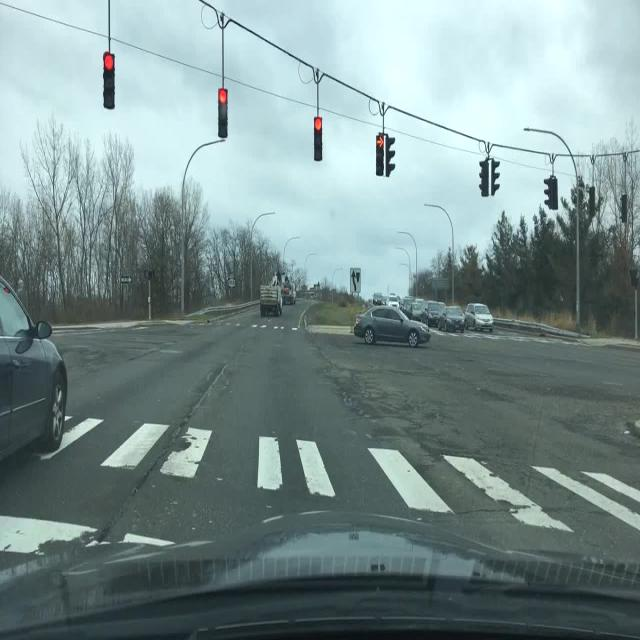Vehicle: (344, 307, 435, 360), (252, 265, 298, 329), (468, 294, 497, 334), (440, 301, 464, 337)
